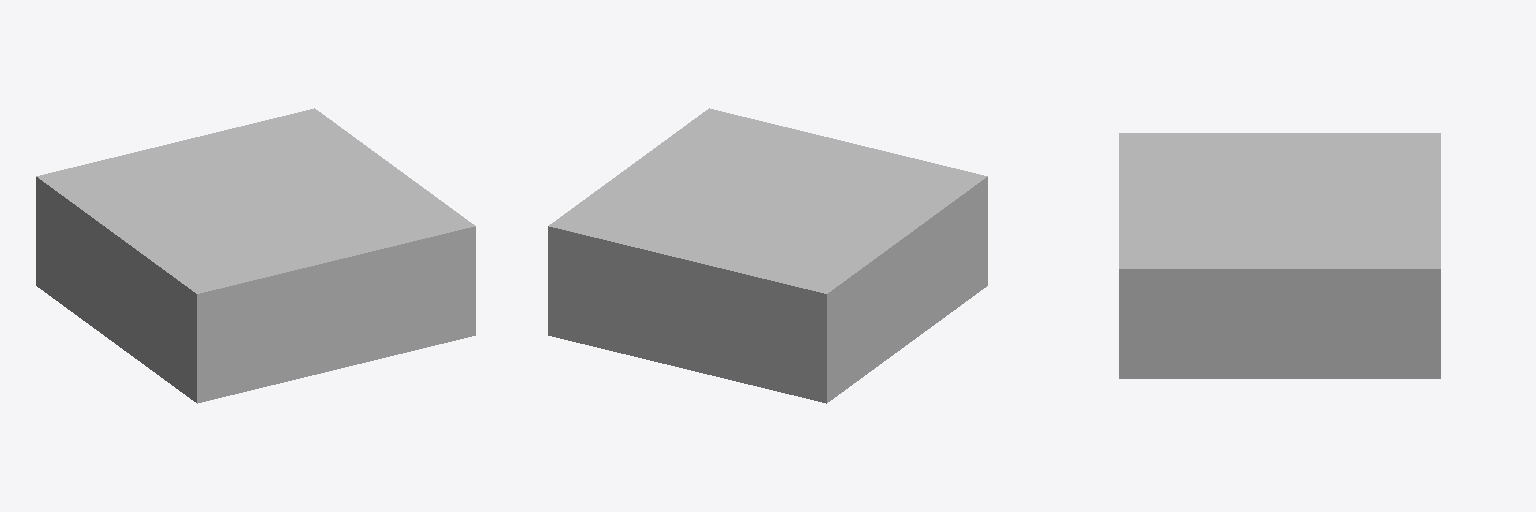
File: bouton_bouton.obj
3 renders of one model, left to right at view 1: azimuth 30°, elevation 25°; view 2: azimuth 150°, elevation 25°; view 3: azimuth 270°, elevation 25°, orthographic.
Parts seen in each view (by area): view 1: bouton_bouton; view 2: bouton_bouton; view 3: bouton_bouton.
Part boxes in pixels (left/top/right/bottom): bouton_bouton: left=36, top=108, right=475, bottom=403; bouton_bouton: left=548, top=108, right=987, bottom=403; bouton_bouton: left=1119, top=133, right=1440, bottom=378.
Size of the model in its own units: 16 by 6 by 16.